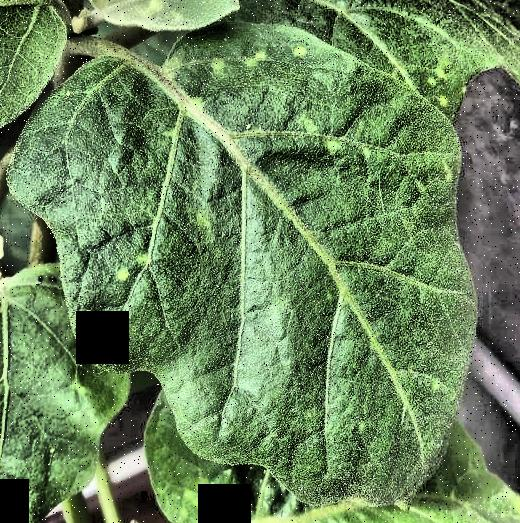HEALTHY: (1, 0, 520, 523)
